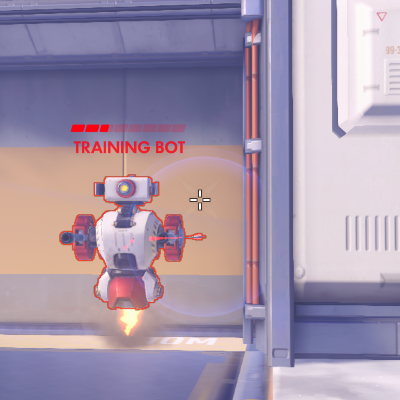hpbar: (71, 124, 186, 133)
